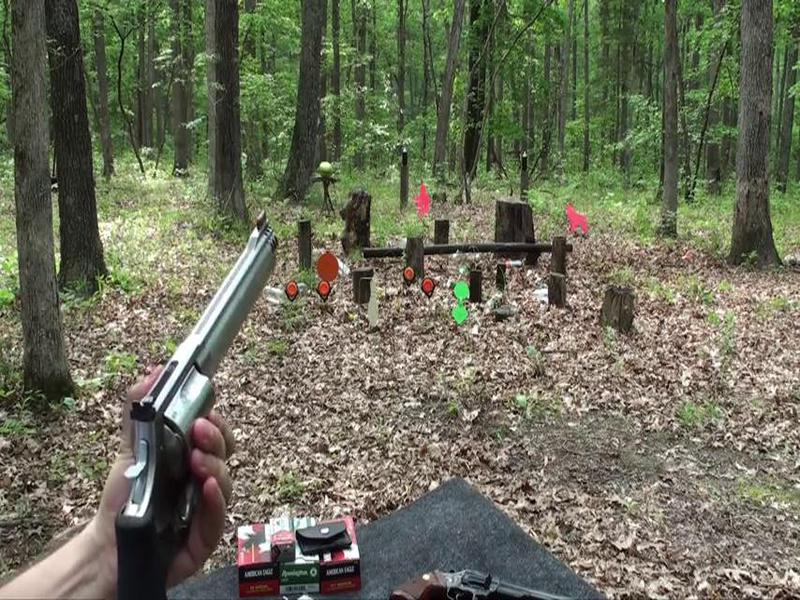Revolver: (117, 203, 310, 519)
